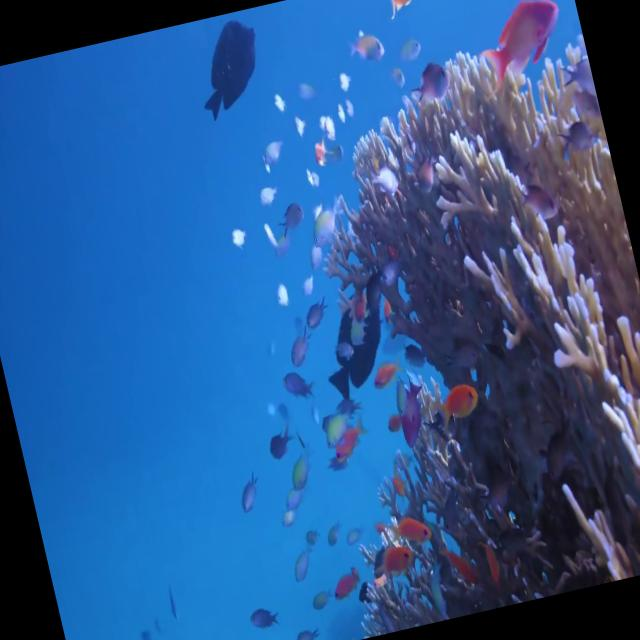fish: (305, 274, 413, 403), (182, 8, 278, 134), (463, 0, 572, 85), (338, 268, 402, 334), (384, 369, 436, 450), (402, 54, 458, 121), (326, 414, 381, 472), (342, 20, 395, 76), (265, 178, 312, 238), (434, 374, 484, 426), (284, 318, 322, 382), (228, 461, 268, 520), (276, 358, 318, 410), (370, 536, 416, 583), (302, 122, 338, 180), (263, 416, 300, 468), (391, 506, 434, 550), (247, 598, 283, 640), (298, 294, 332, 338), (369, 353, 403, 394), (380, 0, 428, 21)
